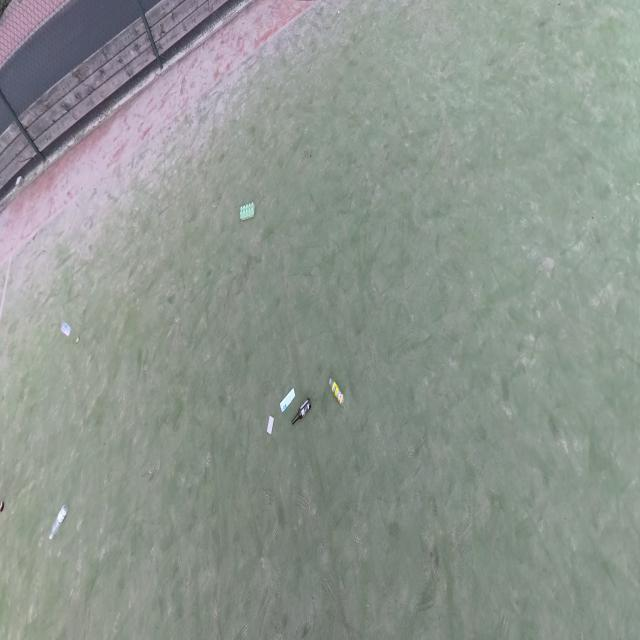rubbish: (48, 504, 69, 543), (291, 396, 311, 424), (329, 378, 346, 408), (279, 388, 295, 416), (240, 201, 255, 221), (60, 320, 72, 338), (266, 416, 274, 434), (0, 500, 4, 513), (75, 336, 78, 342)
